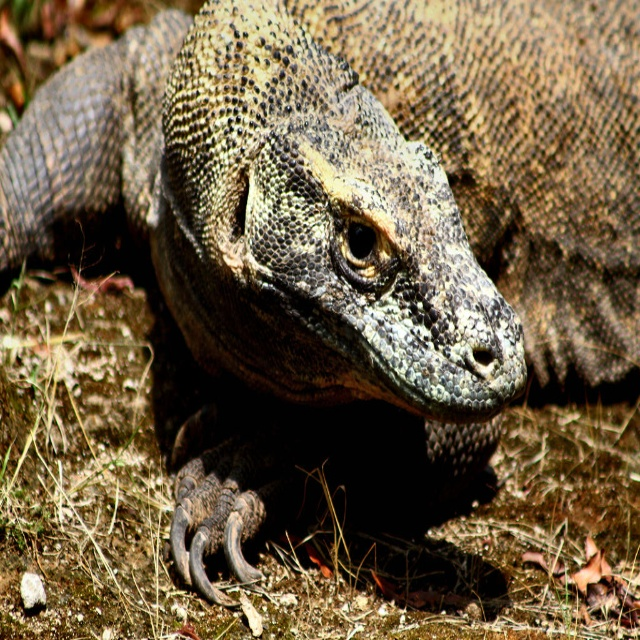Lizard: (6, 20, 540, 606)
